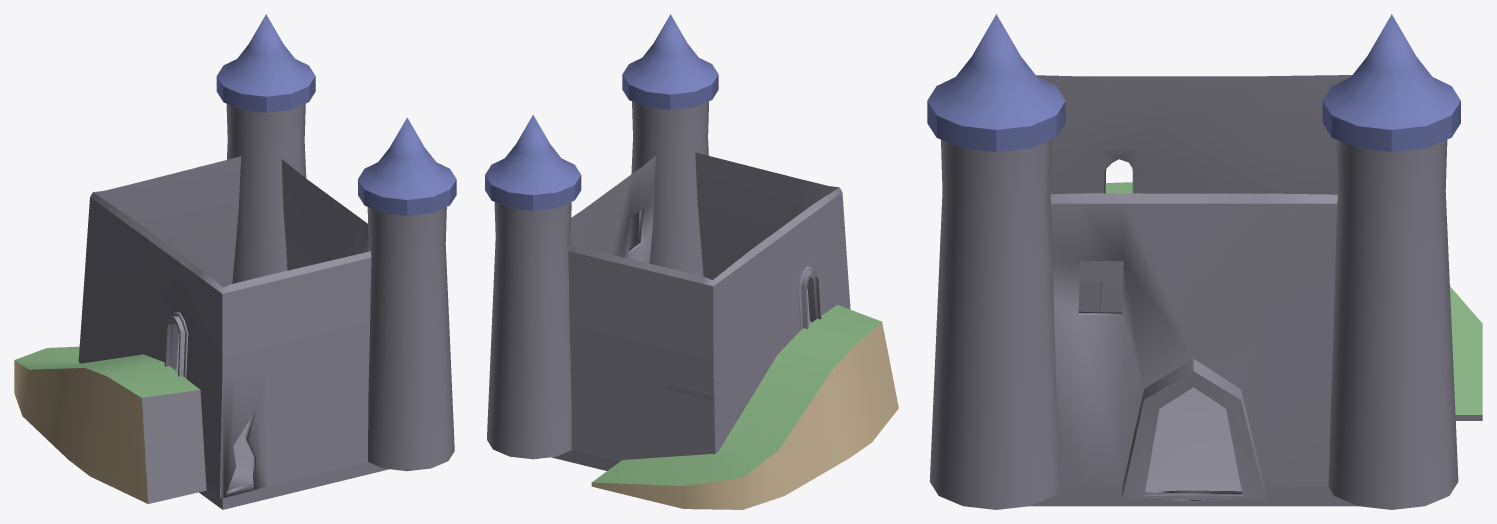
The model's file is 1.Castle.fbx.
3 renders of one model, left to right at view 1: azimuth 30°, elevation 25°; view 2: azimuth 150°, elevation 25°; view 3: azimuth 270°, elevation 25°, orthographic. The views are drawn at different scales.
Visible parts, largest first — view 1: 1.Castle; view 2: 1.Castle; view 3: 1.Castle.
Boxes of the visible parts, x1,y1,x2,y2 form: 1.Castle: (14,14,456,509); 1.Castle: (485,14,898,509); 1.Castle: (927,14,1482,509).
Size of the model in its own units: 1025 by 1120 by 1154.
